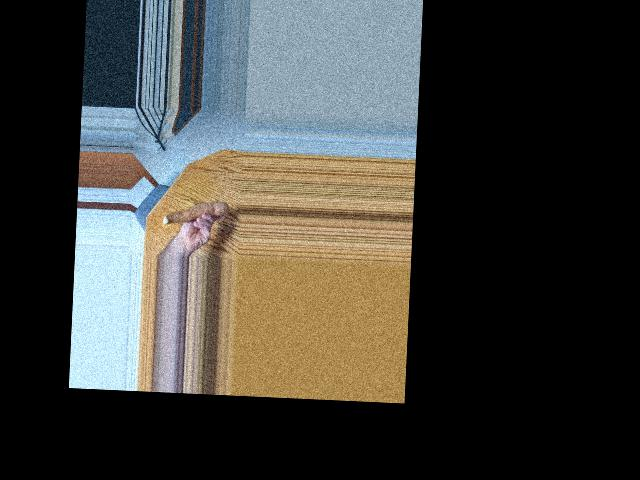sweet_potato: (161, 195, 226, 228)
